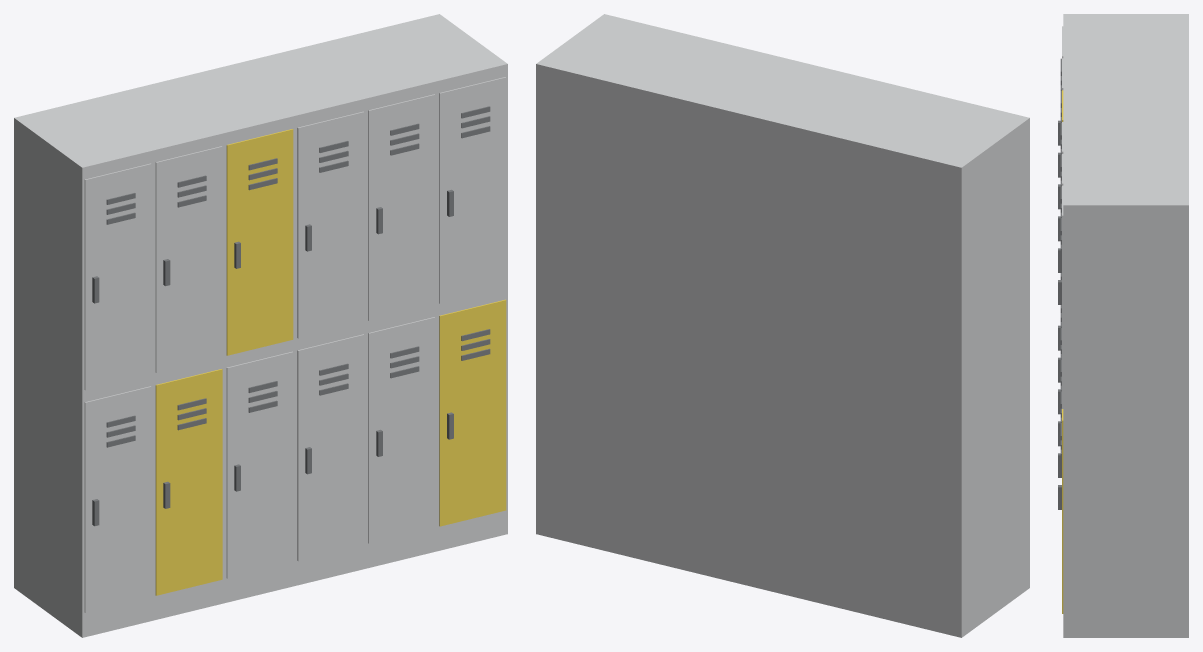
The model's file is Locker_Bank.fbx.
3 renders of one model, left to right at view 1: azimuth 30°, elevation 25°; view 2: azimuth 150°, elevation 25°; view 3: azimuth 270°, elevation 25°, orthographic. The views are drawn at different scales.
Visible parts, largest first — view 1: Locker_Bank; view 2: Locker_Bank; view 3: Locker_Bank.
Part boxes in pixels (box(x1,y1,x2,y2)): Locker_Bank: box(14, 14, 507, 637); Locker_Bank: box(536, 14, 1029, 637); Locker_Bank: box(1058, 14, 1188, 637).
Size of the model in its own units: 1.8 by 1.9 by 0.52.
